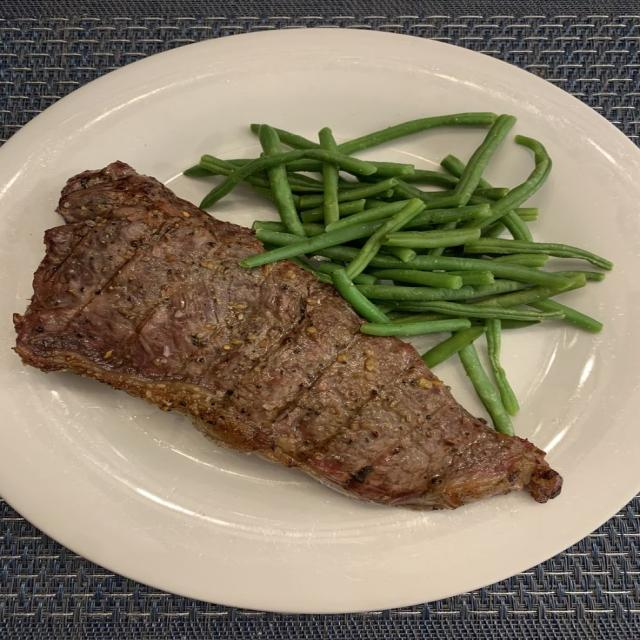beef steak: (14, 161, 561, 509)
stream beens: (203, 149, 376, 207), (335, 199, 425, 287), (472, 136, 550, 226), (341, 112, 497, 154), (239, 222, 380, 267), (455, 116, 514, 205), (459, 344, 513, 434), (406, 256, 567, 286), (464, 237, 612, 269), (357, 280, 529, 302), (476, 276, 585, 308), (485, 318, 518, 416), (333, 268, 387, 323), (326, 199, 417, 231), (417, 301, 563, 320), (423, 326, 484, 369), (269, 166, 305, 236), (529, 299, 602, 332), (383, 228, 479, 249), (407, 204, 489, 228), (370, 268, 463, 288), (361, 318, 470, 335), (337, 177, 397, 204), (399, 169, 457, 188), (323, 163, 339, 224), (183, 158, 237, 176), (501, 210, 532, 239), (277, 128, 318, 149), (368, 160, 413, 176), (297, 193, 322, 218), (426, 196, 463, 208), (319, 248, 354, 259), (320, 127, 335, 150), (243, 173, 267, 187), (260, 132, 275, 151), (374, 257, 399, 267), (364, 311, 382, 318), (251, 124, 257, 132)
